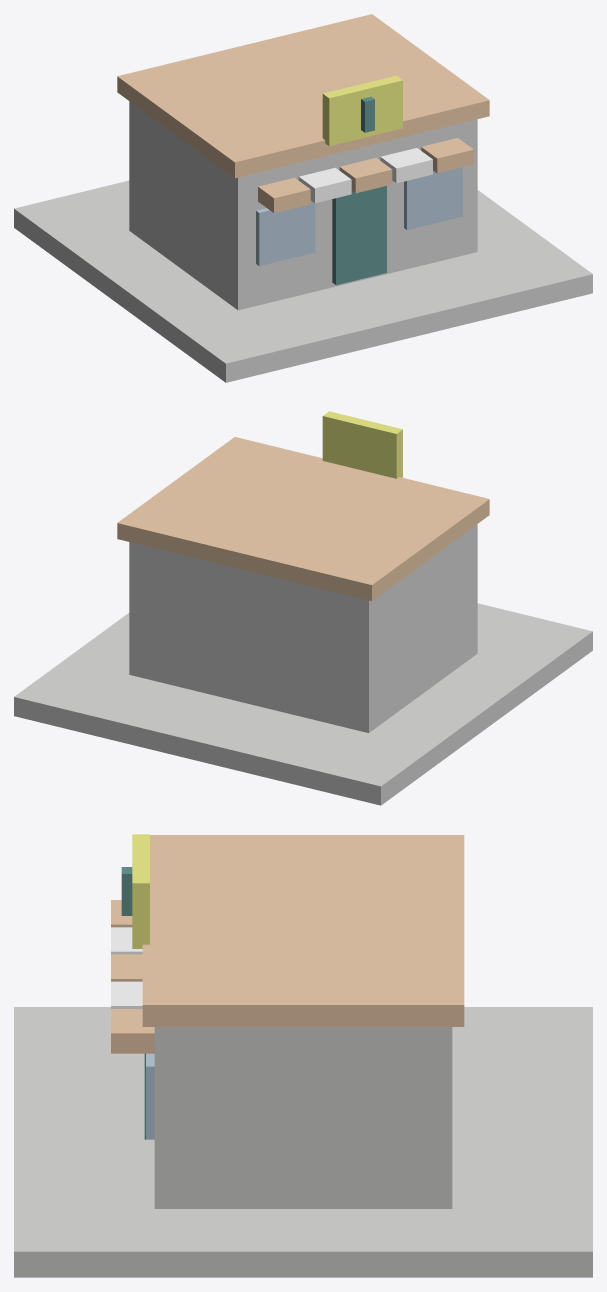
The model's file is restaurant.gltf.
The picture shows the model from 3 angles, top to bottom: view 1: azimuth 30°, elevation 25°; view 2: azimuth 150°, elevation 25°; view 3: azimuth 270°, elevation 25°; orthographic projection. The views are drawn at different scales.
Parts seen in each view (by area): view 1: restaurant_0, restaurant_2, restaurant_1, restaurant_3, restaurant_11, restaurant_4, restaurant_5, restaurant_6, restaurant_7, restaurant_8, restaurant_9, restaurant_10 (+1 smaller); view 2: restaurant_1, restaurant_0, restaurant_2, restaurant_11; view 3: restaurant_0, restaurant_2, restaurant_1, restaurant_11, restaurant_10, restaurant_8, restaurant_9, restaurant_5, restaurant_7, restaurant_12.
Boxes of the visible parts, x1,y1,x2,y2 form: restaurant_0: (14, 180, 592, 382); restaurant_2: (117, 14, 489, 178); restaurant_1: (129, 101, 477, 310); restaurant_3: (332, 186, 386, 285); restaurant_11: (322, 75, 402, 146); restaurant_4: (256, 200, 315, 266); restaurant_5: (404, 167, 462, 229); restaurant_6: (258, 177, 310, 213); restaurant_7: (298, 167, 351, 203); restaurant_8: (339, 158, 392, 193); restaurant_9: (380, 148, 432, 183); restaurant_10: (421, 138, 473, 173); restaurant_1: (129, 524, 477, 732); restaurant_0: (14, 603, 592, 805); restaurant_2: (117, 437, 489, 600); restaurant_11: (322, 411, 402, 478); restaurant_0: (14, 1007, 592, 1277); restaurant_2: (142, 835, 464, 1026); restaurant_1: (154, 1027, 452, 1208); restaurant_11: (132, 834, 149, 948); restaurant_10: (111, 1009, 154, 1053); restaurant_8: (111, 954, 142, 981); restaurant_9: (111, 981, 142, 1008); restaurant_5: (146, 1053, 154, 1139); restaurant_7: (111, 927, 142, 954); restaurant_12: (121, 867, 132, 915).
Bounding box in the file's own units: 7.2 × 4.07 × 7.2.
